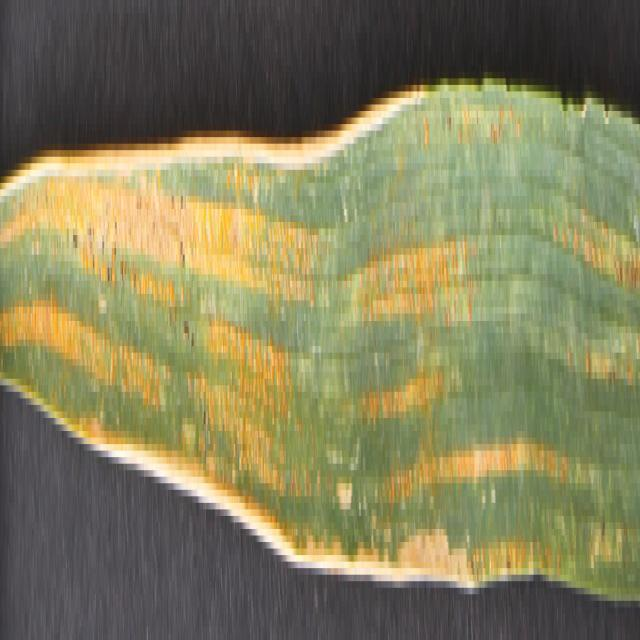leaf rust: (1, 78, 639, 594)
